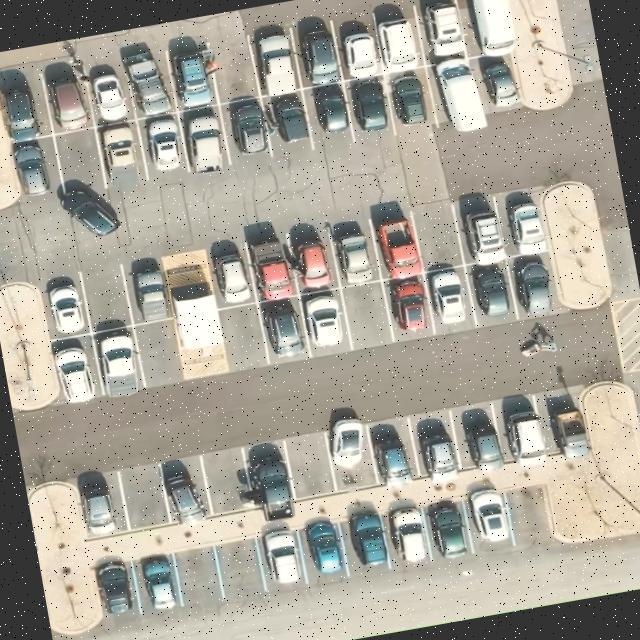space-empty: (52, 126, 110, 202), (198, 446, 256, 518), (205, 30, 260, 105), (78, 260, 134, 332), (282, 429, 338, 500), (410, 198, 463, 272), (338, 278, 392, 349), (115, 462, 169, 532), (215, 302, 269, 372), (132, 316, 186, 386), (503, 484, 557, 550), (212, 534, 264, 601), (173, 542, 225, 608)
space-occupied: (426, 52, 492, 134), (281, 218, 342, 296), (322, 414, 379, 496), (202, 235, 262, 311), (377, 498, 437, 572), (164, 36, 224, 110), (246, 22, 306, 96), (242, 438, 298, 517), (495, 392, 551, 471), (295, 512, 354, 586), (176, 102, 231, 180), (409, 0, 476, 64), (88, 325, 147, 397), (80, 54, 138, 127), (368, 206, 425, 280), (384, 64, 441, 138), (449, 402, 506, 476), (95, 118, 150, 194), (72, 467, 128, 541), (252, 522, 310, 593), (406, 409, 462, 482), (39, 266, 94, 340), (40, 59, 94, 134), (462, 484, 518, 556), (0, 68, 52, 144), (452, 193, 506, 266), (125, 44, 178, 118), (256, 294, 312, 364), (494, 186, 548, 258), (48, 332, 101, 404), (420, 264, 476, 332), (363, 418, 417, 488), (219, 96, 276, 162), (504, 252, 558, 321), (247, 226, 296, 301), (422, 496, 476, 564), (330, 13, 384, 81), (300, 288, 353, 357), (342, 74, 394, 144), (373, 0, 423, 72), (330, 216, 381, 286), (157, 456, 211, 522), (137, 110, 190, 177), (457, 0, 516, 60), (122, 256, 174, 324), (6, 136, 61, 200), (302, 81, 353, 150), (130, 550, 183, 616), (538, 384, 586, 456), (464, 260, 516, 326), (261, 90, 313, 156), (384, 274, 433, 344), (339, 511, 388, 580), (295, 17, 342, 87), (470, 52, 520, 116), (92, 558, 141, 622)
